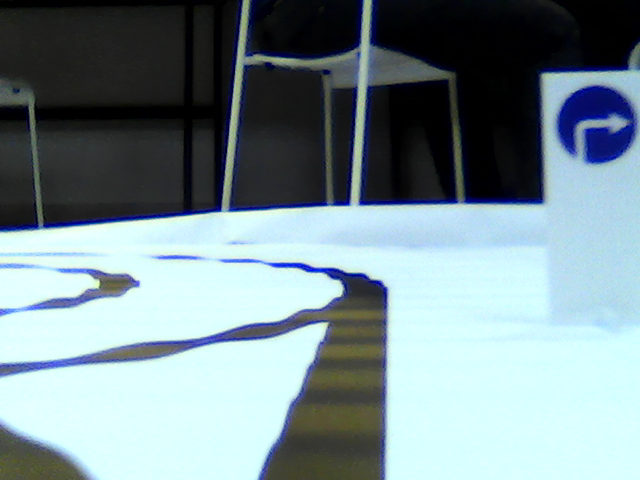Right: (556, 83, 636, 164)
